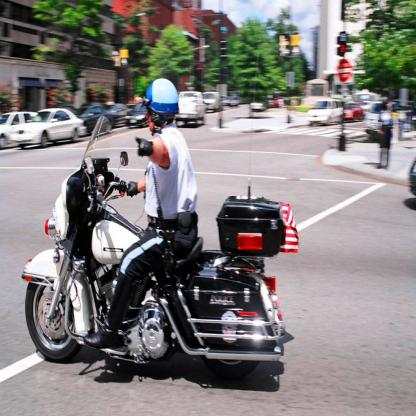Helmet: (144, 76, 181, 120)
